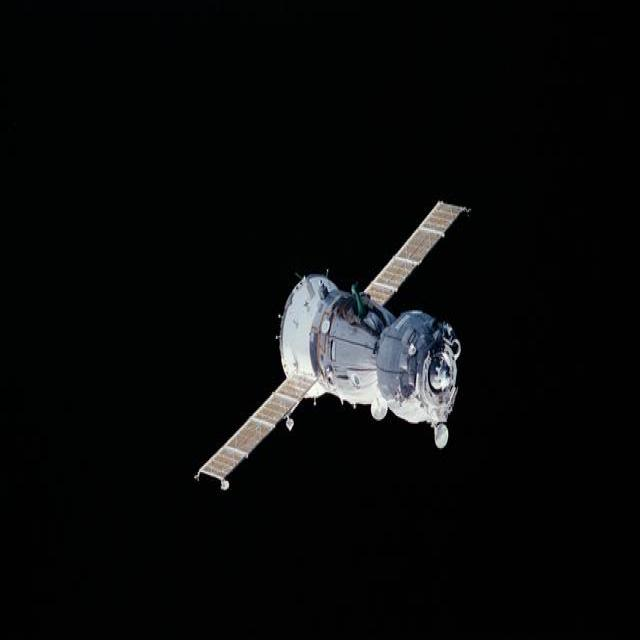satellite: (198, 204, 465, 487)
